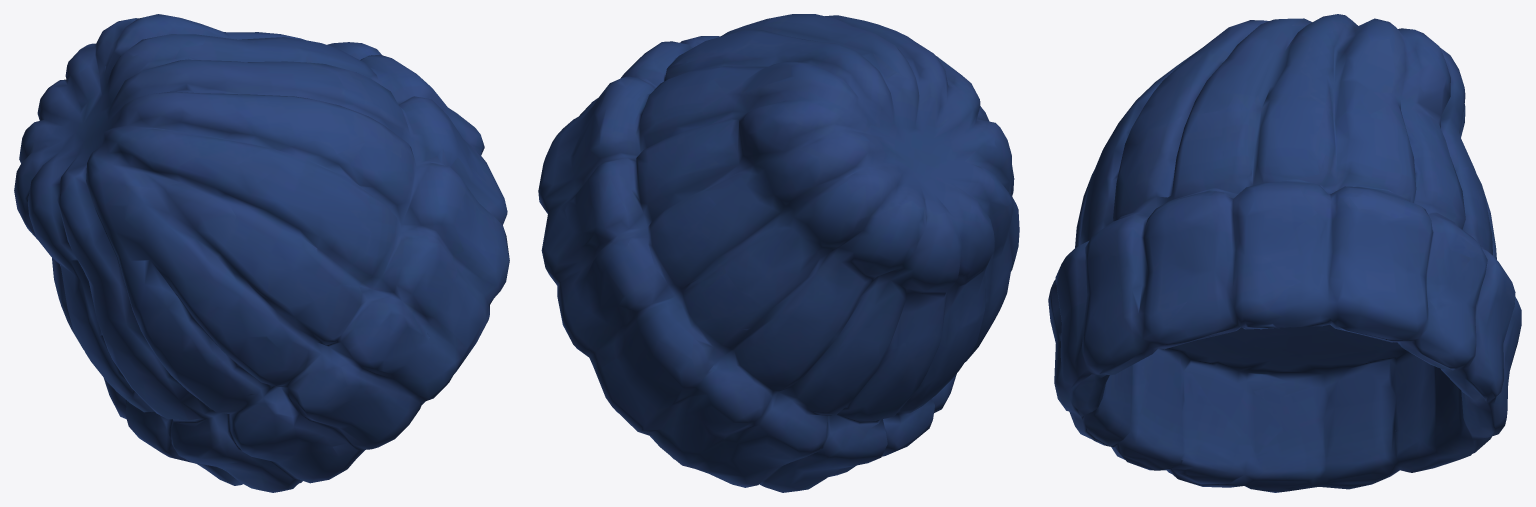
The model's file is hat-beanie.glb.
3 views of the same model, side by side, from view 1: azimuth 30°, elevation 25°; view 2: azimuth 150°, elevation 25°; view 3: azimuth 270°, elevation 25° (orthographic). The views are drawn at different scales.
Parts seen in each view (by area): view 1: hat-beanie; view 2: hat-beanie; view 3: hat-beanie.
Boxes of the visible parts, left/top/right/bottom form: hat-beanie: left=14, top=14, right=509, bottom=492; hat-beanie: left=538, top=14, right=1019, bottom=492; hat-beanie: left=1048, top=14, right=1521, bottom=492.
Size of the model in its own units: 0.9998 by 1 by 0.9464.
Materials: 1 (1 with a texture image).
